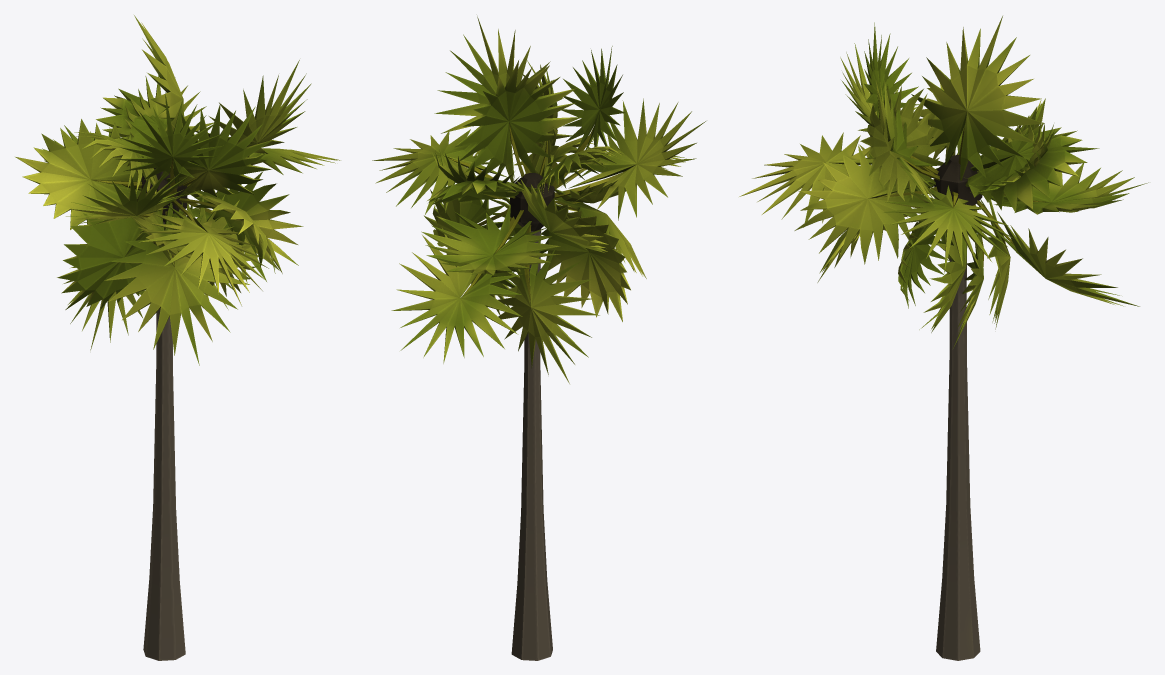
The model's file is PalmyraPalmTree.obj.
3 views of the same model, side by side, from view 1: azimuth 30°, elevation 25°; view 2: azimuth 150°, elevation 25°; view 3: azimuth 270°, elevation 25° (orthographic). The views are drawn at different scales.
Visible parts, largest first — view 1: PalmyraPalmTree_mesh; view 2: PalmyraPalmTree_mesh; view 3: PalmyraPalmTree_mesh.
Part boxes in pixels (x1=…): PalmyraPalmTree_mesh: x1=15, y1=15, x2=340, y2=660; PalmyraPalmTree_mesh: x1=372, y1=16, x2=705, y2=660; PalmyraPalmTree_mesh: x1=739, y1=16, x2=1148, y2=660.
Size of the model in its own units: 15.95 by 31.38 by 18.6.
1 material, 1 textured.
